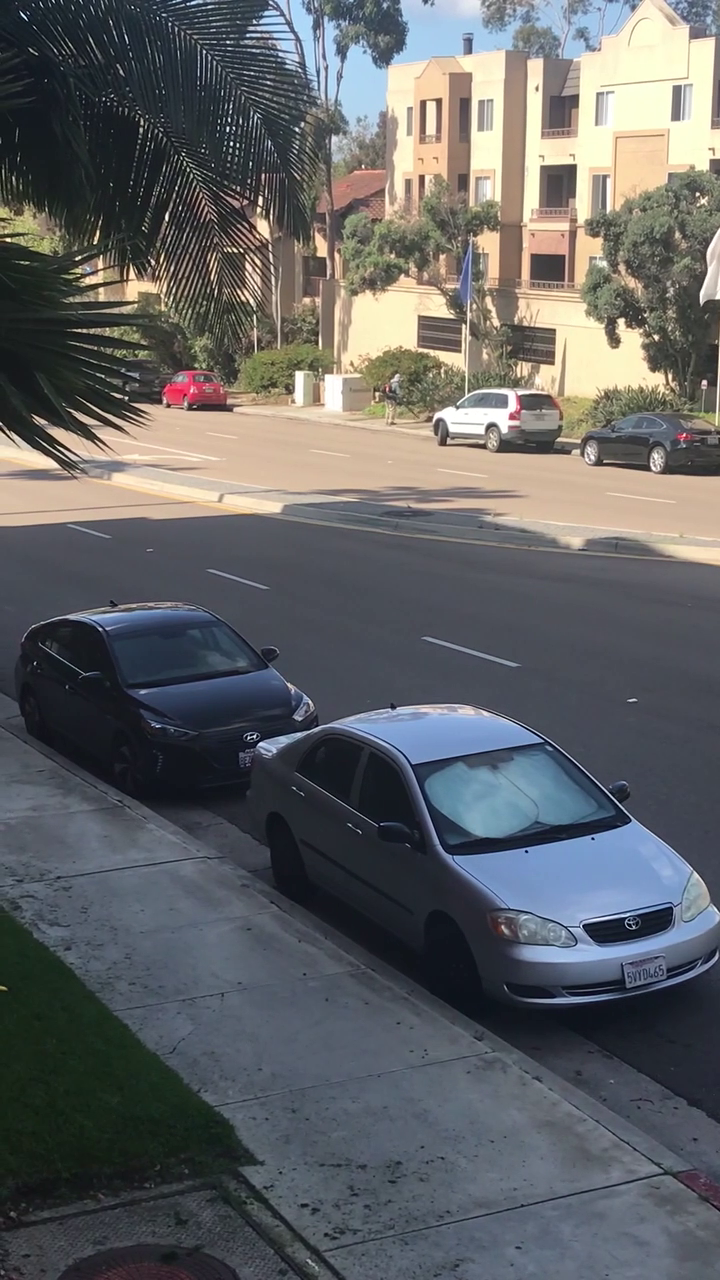car: (225, 703, 706, 1022), (13, 609, 317, 791)
